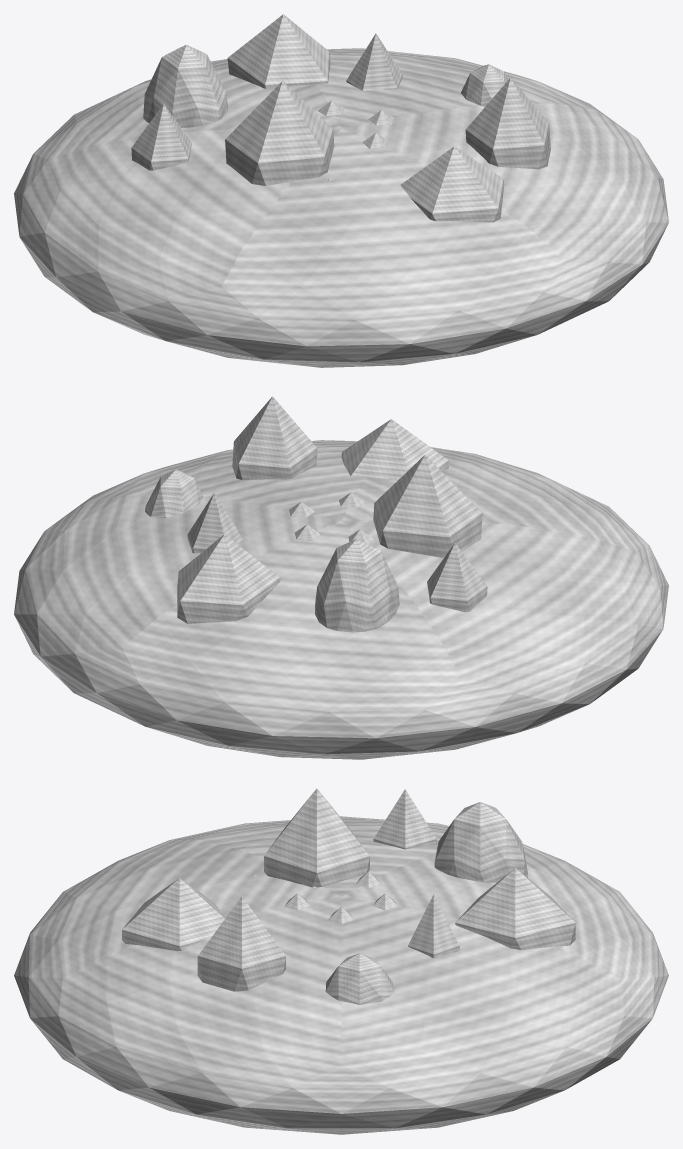
File: iron_ore_node_variant_a.glb
The picture shows the model from 3 angles, top to bottom: view 1: azimuth 30°, elevation 25°; view 2: azimuth 150°, elevation 25°; view 3: azimuth 270°, elevation 25°; orthographic projection.
Parts seen in each view (by area): view 1: Resource node bedrock, Exposed ore formation.006, Exposed ore formation.008, Exposed ore formation.009, Exposed ore formation.003, Exposed ore formation.004, Exposed ore formation.005, Exposed ore formation.002, Exposed ore formation.001; view 2: Resource node bedrock, Exposed ore formation.006, Exposed ore formation.003, Exposed ore formation.004, Exposed ore formation.009, Exposed ore formation.008, Exposed ore formation.005, Exposed ore formation.001, Exposed ore formation.002; view 3: Resource node bedrock, Exposed ore formation.006, Exposed ore formation.003, Exposed ore formation.004, Exposed ore formation.009, Exposed ore formation.008, Exposed ore formation.001, Exposed ore formation.005, Exposed ore formation.002.
Part boxes in pixels (left/top/right/bottom): Resource node bedrock: left=14, top=48, right=668, bottom=367; Exposed ore formation.006: left=225, top=81, right=334, bottom=185; Exposed ore formation.008: left=400, top=146, right=504, bottom=222; Exposed ore formation.009: left=465, top=78, right=550, bottom=169; Exposed ore formation.003: left=227, top=14, right=330, bottom=88; Exposed ore formation.004: left=143, top=44, right=227, bottom=127; Exposed ore formation.005: left=131, top=104, right=191, bottom=170; Exposed ore formation.002: left=346, top=33, right=402, bottom=90; Exposed ore formation.001: left=461, top=64, right=507, bottom=106; Resource node bedrock: left=14, top=440, right=668, bottom=759; Exposed ore formation.006: left=373, top=455, right=482, bottom=557; Exposed ore formation.003: left=177, top=534, right=280, bottom=623; Exposed ore formation.004: left=315, top=539, right=399, bottom=632; Exposed ore formation.009: left=232, top=396, right=317, bottom=479; Exposed ore formation.008: left=341, top=419, right=449, bottom=480; Exposed ore formation.005: left=427, top=542, right=487, bottom=611; Exposed ore formation.001: left=145, top=469, right=203, bottom=517; Exposed ore formation.002: left=187, top=493, right=242, bottom=553; Resource node bedrock: left=14, top=816, right=668, bottom=1134; Exposed ore formation.006: left=264, top=788, right=369, bottom=887; Exposed ore formation.003: left=455, top=868, right=575, bottom=950; Exposed ore formation.004: left=434, top=802, right=527, bottom=882; Exposed ore formation.009: left=197, top=896, right=285, bottom=991; Exposed ore formation.008: left=122, top=878, right=225, bottom=951; Exposed ore formation.001: left=325, top=953, right=394, bottom=1004; Exposed ore formation.005: left=373, top=789, right=436, bottom=849; Exposed ore formation.002: left=408, top=894, right=459, bottom=958.
Size of what is drawn, in the model's own units: 6.4 by 2.5 by 6.4.
Materials: 2 (2 with a texture image).
